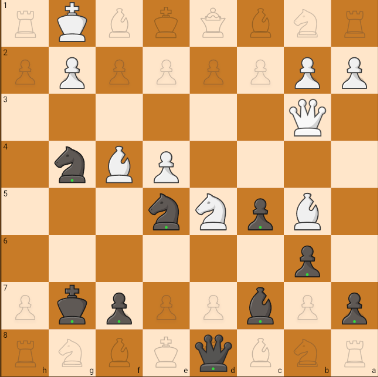bb: (239, 283, 282, 327)
bk: (50, 282, 95, 329), (192, 332, 234, 372)
bn: (50, 145, 92, 186), (145, 191, 186, 232)
bp: (241, 190, 279, 234), (101, 286, 138, 325), (338, 287, 371, 325), (291, 242, 323, 280)
wb: (286, 189, 332, 234), (95, 142, 139, 186)
wk: (51, 2, 95, 44)
wn: (191, 190, 230, 233)
wp: (285, 50, 327, 91), (335, 53, 373, 91), (147, 148, 186, 184), (53, 52, 88, 91)
wq: (286, 95, 330, 140)
